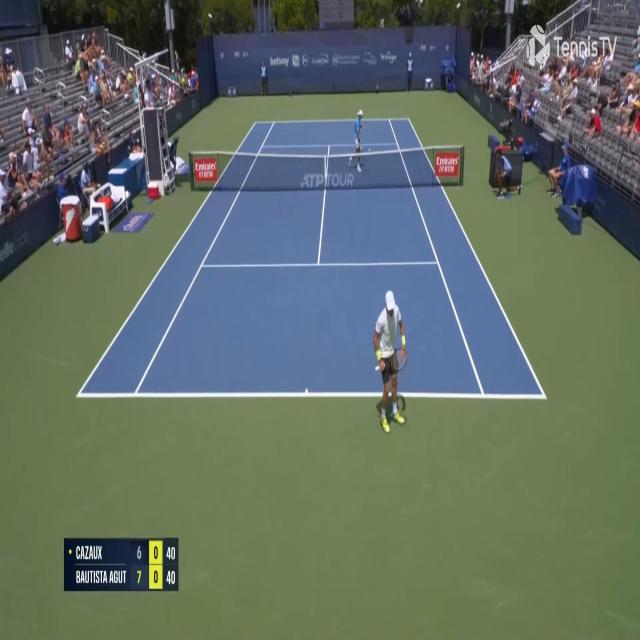tennis-player: (373, 284, 409, 437), (352, 108, 364, 171)
